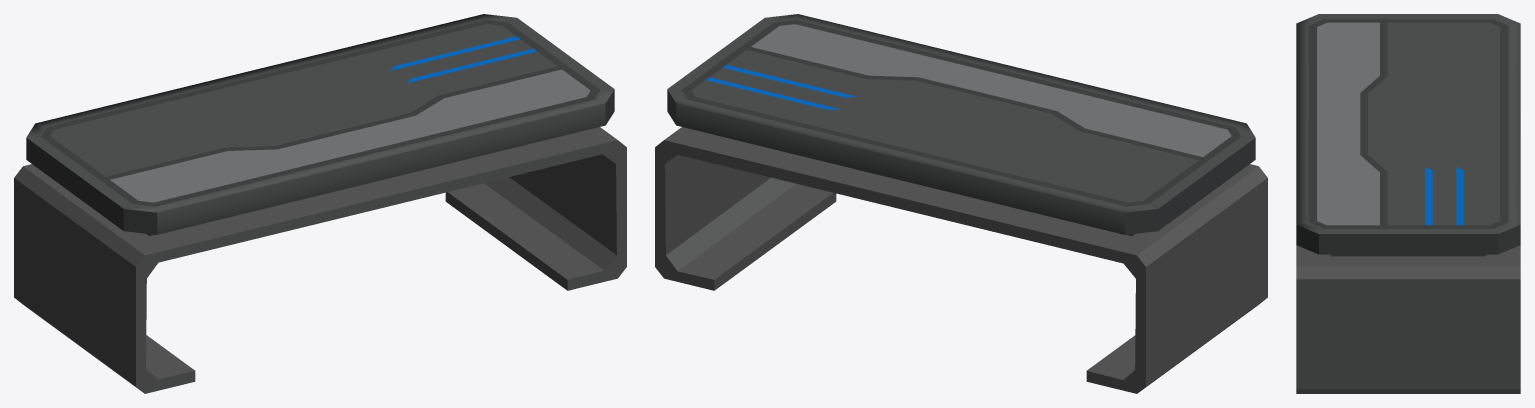
The model's file is Desk_014.fbx.
3 renders of one model, left to right at view 1: azimuth 30°, elevation 25°; view 2: azimuth 150°, elevation 25°; view 3: azimuth 270°, elevation 25°, orthographic. The views are drawn at different scales.
Parts seen in each view (by area): view 1: Desk_014; view 2: Desk_014; view 3: Desk_014.
Boxes of the visible parts, box(x1,y1,x2,y2) form: Desk_014: box(14, 14, 626, 393); Desk_014: box(655, 14, 1267, 393); Desk_014: box(1296, 14, 1520, 393).
Bounding box in the file's own units: 244 × 105 × 84.84.
